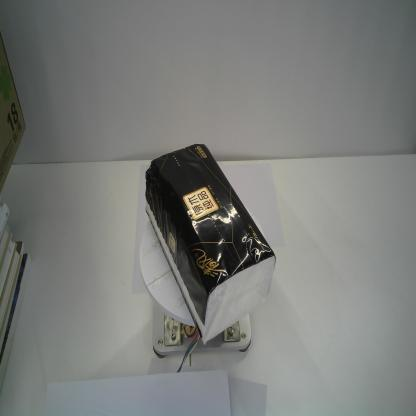Tissue: (144, 143, 276, 344)
